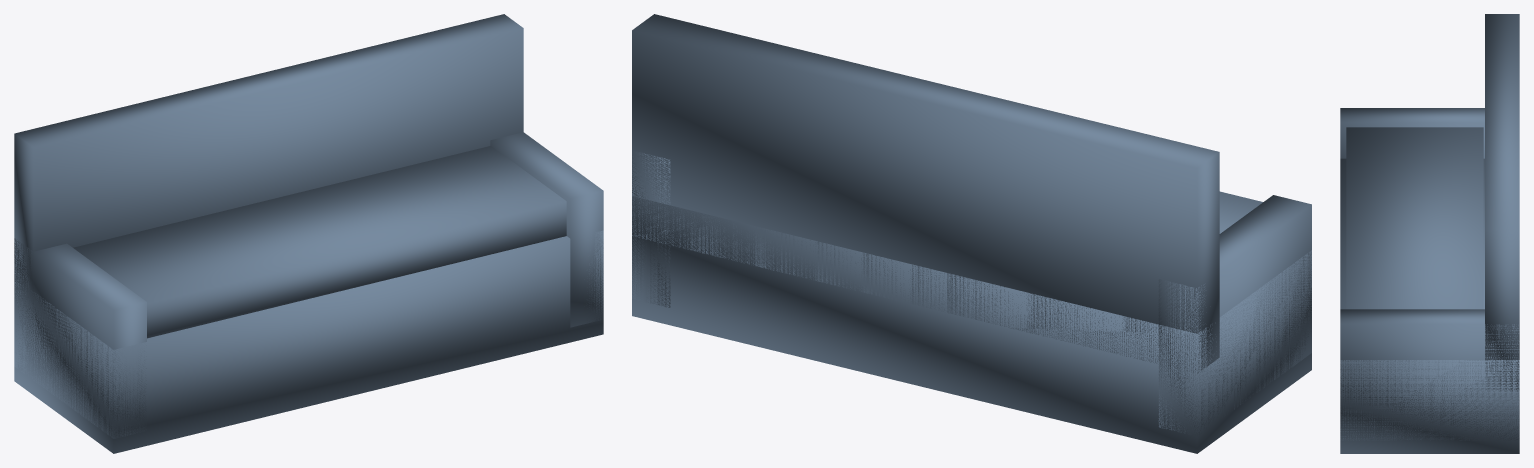
File: sofa__reinforced.glb
The picture shows the model from 3 angles, left to right: view 1: azimuth 30°, elevation 25°; view 2: azimuth 150°, elevation 25°; view 3: azimuth 270°, elevation 25°; orthographic projection. The views are drawn at different scales.
Visible parts, largest first — view 1: world; view 2: world; view 3: world.
Boxes of the visible parts, bbox=[...] form: world: bbox=[14, 14, 603, 453]; world: bbox=[632, 14, 1311, 453]; world: bbox=[1340, 14, 1519, 453].
Size of the model in its own units: 2.11 by 1.05 by 0.7416.
